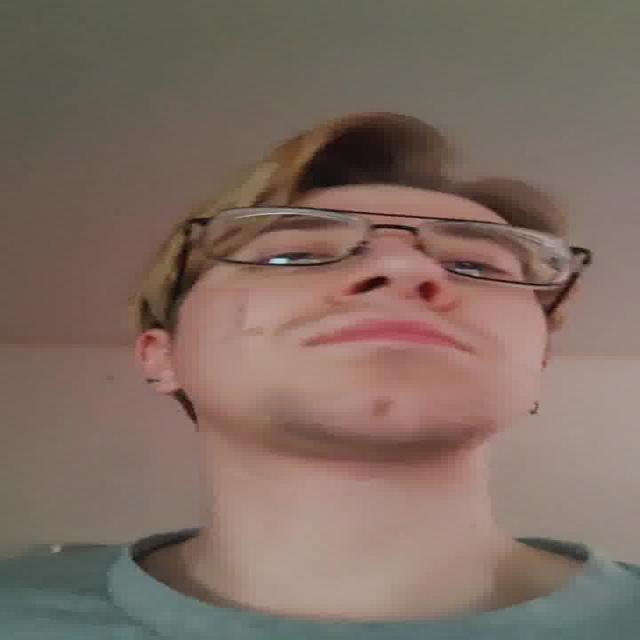earlobe: (135, 327, 183, 395)
